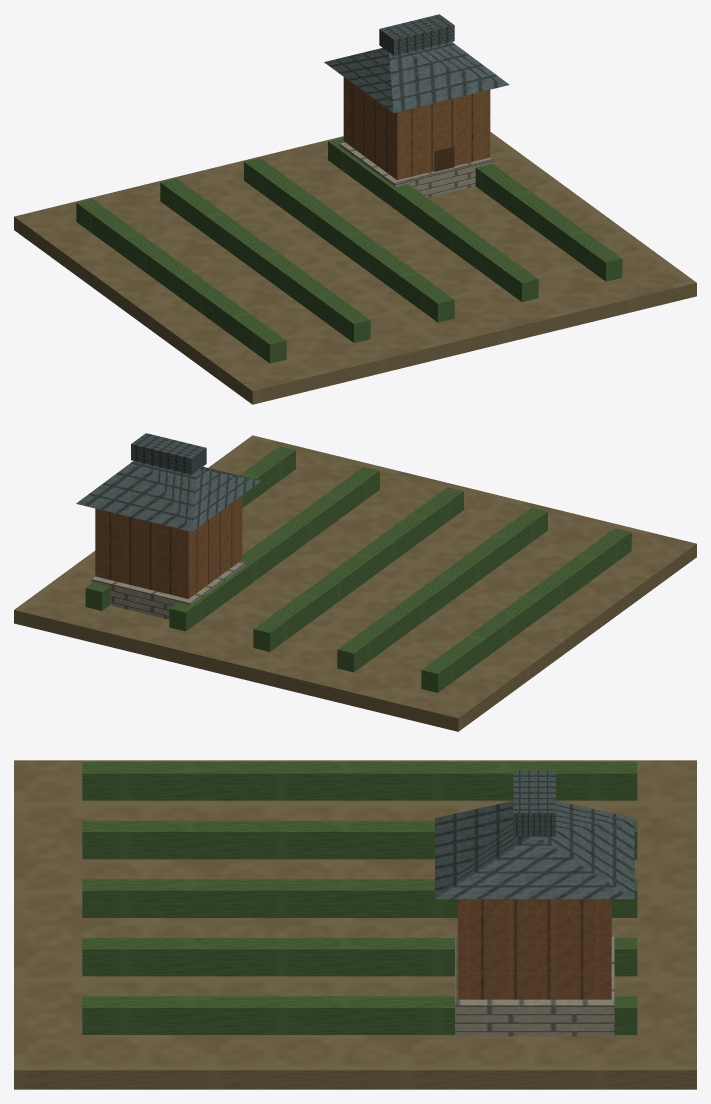
Rendered from domestic-FARM-2-lod2.glb.
3 views of the same model, one above another, from view 1: azimuth 30°, elevation 25°; view 2: azimuth 150°, elevation 25°; view 3: azimuth 270°, elevation 25° (orthographic). The views are drawn at different scales.
Bounding box in the file's own units: 0.86 × 0.296 × 0.8.
Materials: 1 (1 with a texture image).
